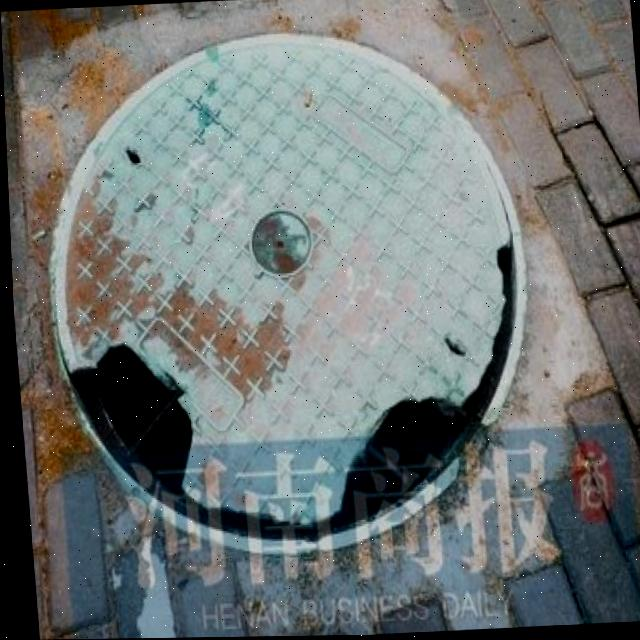manhole: (25, 21, 540, 562)
